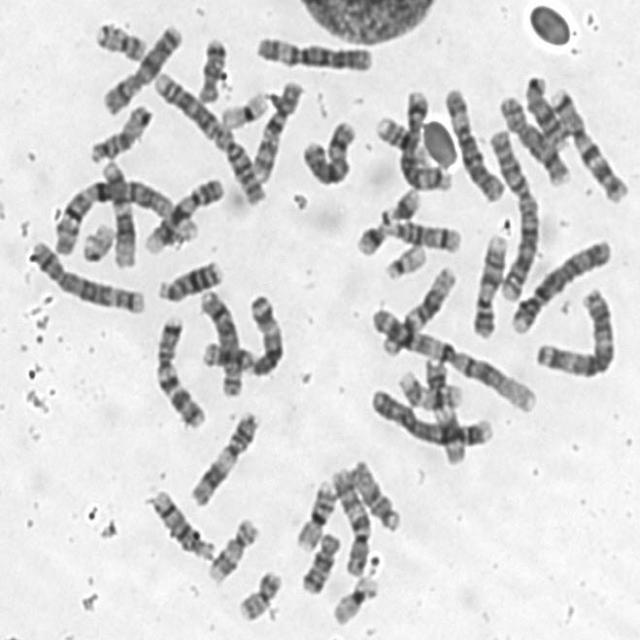A1: (368, 305, 540, 415), (49, 175, 201, 256)
A2: (150, 69, 268, 206), (486, 126, 540, 302)
A3: (531, 285, 617, 378), (198, 294, 287, 380)
B4: (508, 235, 615, 335), (367, 384, 494, 448)
B5: (26, 237, 147, 316), (394, 88, 454, 192)
C10: (249, 76, 305, 182), (325, 467, 372, 578)
C11: (186, 407, 262, 508), (424, 353, 470, 468)
C12: (376, 262, 457, 358), (99, 157, 137, 270)
C6: (441, 84, 505, 203), (251, 33, 374, 73)
C7: (547, 84, 629, 204), (151, 313, 208, 429)
C8: (496, 91, 570, 188), (196, 286, 244, 399)
C9: (141, 174, 226, 255), (469, 231, 510, 340)
D13: (523, 71, 566, 149), (156, 255, 223, 303)
D14: (146, 487, 214, 562), (382, 217, 463, 253)
D15: (328, 460, 403, 534), (85, 100, 154, 165)
E16: (292, 478, 337, 553), (373, 113, 431, 170)
E17: (204, 516, 259, 586), (394, 366, 465, 411)
E18: (296, 528, 342, 596), (194, 35, 228, 104)
F19: (327, 572, 380, 628), (218, 88, 270, 130)
F20: (234, 567, 285, 623), (92, 20, 148, 62)
G21: (382, 185, 422, 224), (354, 219, 388, 256)
G22: (381, 240, 428, 281), (78, 219, 116, 264)
X: (98, 20, 185, 116), (298, 116, 358, 188)
